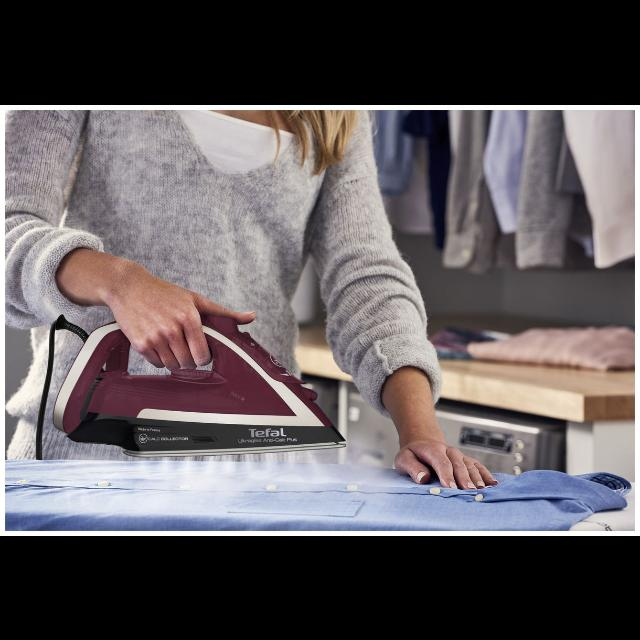Clothes-Iron: (49, 314, 354, 464)
